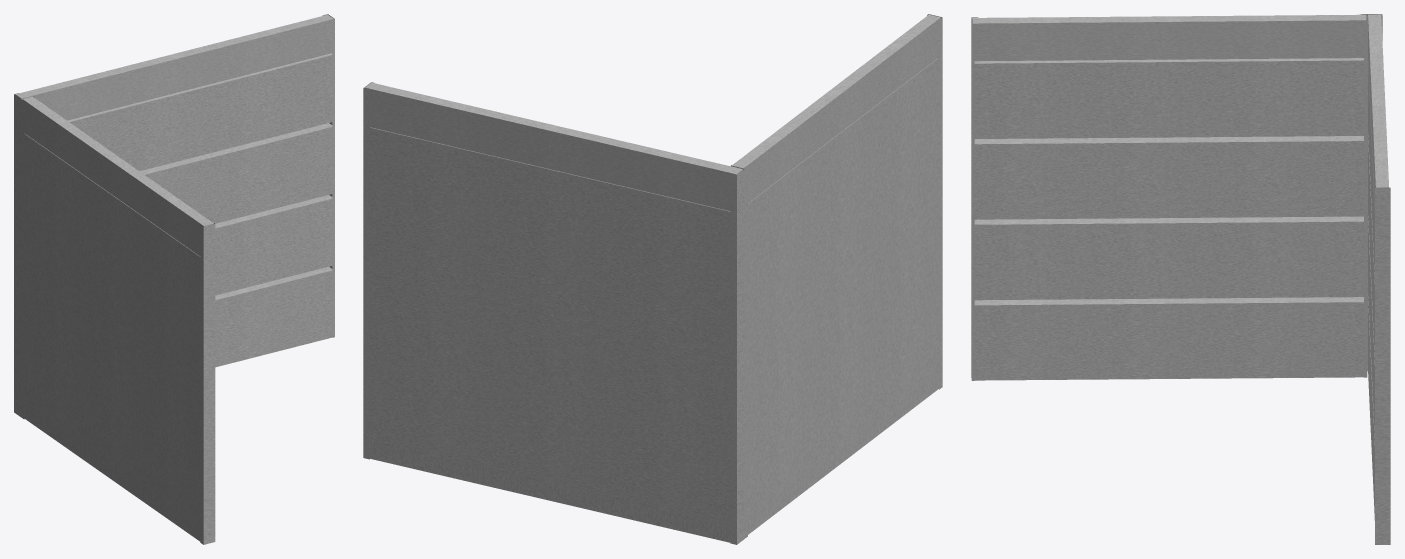
The model's file is cornerBackSlashAlu.glb.
3 renders of one model, left to right at view 1: azimuth 30°, elevation 25°; view 2: azimuth 150°, elevation 25°; view 3: azimuth 270°, elevation 25°, orthographic. The views are drawn at different scales.
Parts seen in each view (by area): view 1: cornerBacksplashAlu; view 2: cornerBacksplashAlu; view 3: cornerBacksplashAlu.
Part boxes in pixels (x1,y1,x2,y2): cornerBacksplashAlu: [14, 14, 334, 544]; cornerBacksplashAlu: [363, 14, 942, 544]; cornerBacksplashAlu: [971, 14, 1390, 544].
Bounding box in the file's own units: 0.5591 × 0.5351 × 0.5696.
2 materials, 1 textured.
